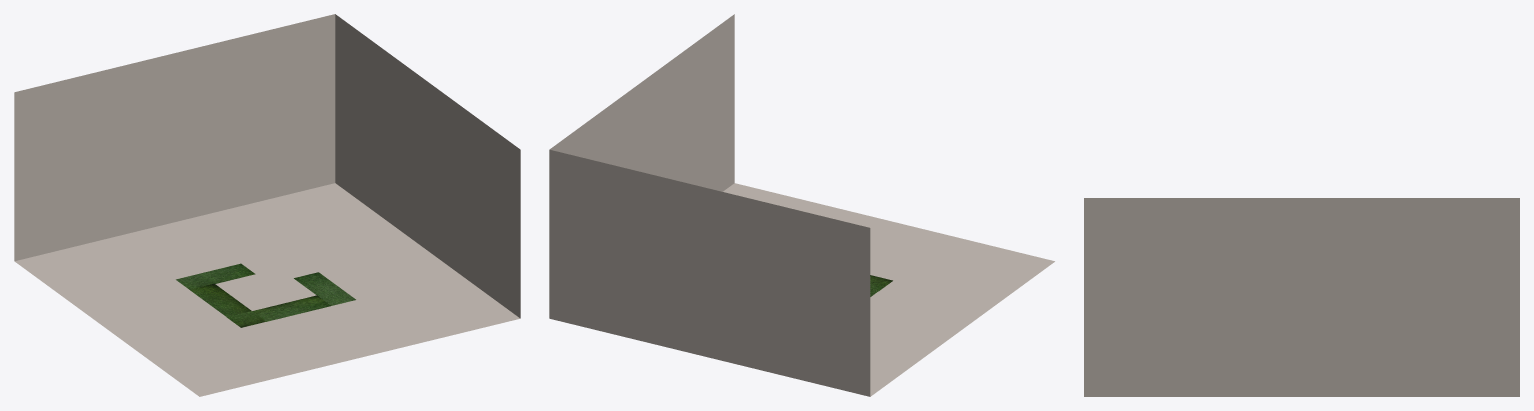
The model's file is bgImage.glb.
The picture shows the model from 3 angles, left to right: view 1: azimuth 30°, elevation 25°; view 2: azimuth 150°, elevation 25°; view 3: azimuth 270°, elevation 25°; orthographic projection. The views are drawn at different scales.
Visible parts, largest first — view 1: Plane.001, Plane.006; view 2: Plane.001; view 3: Plane.001.
Part boxes in pixels (x1,y1,x2,y2): Plane.001: (14,14,520,396); Plane.006: (176,263,355,327); Plane.001: (549,14,1054,396); Plane.001: (1084,198,1519,396).
Bounding box in the file's own units: 50.81 × 25.58 × 50.81.
2 materials, 1 textured.
